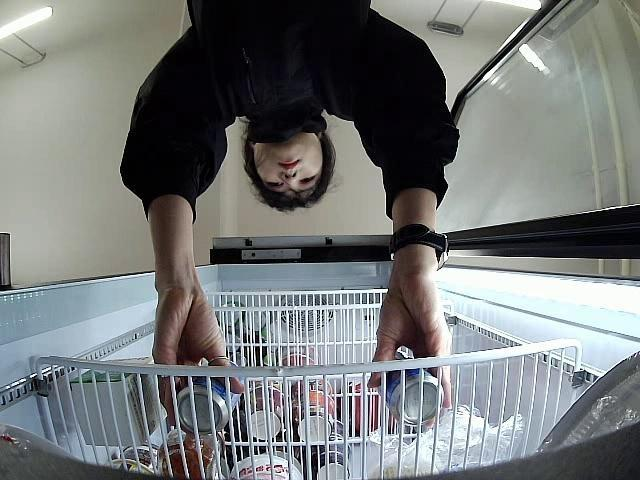15_letsbe: (180, 360, 245, 434), (381, 352, 446, 426)
